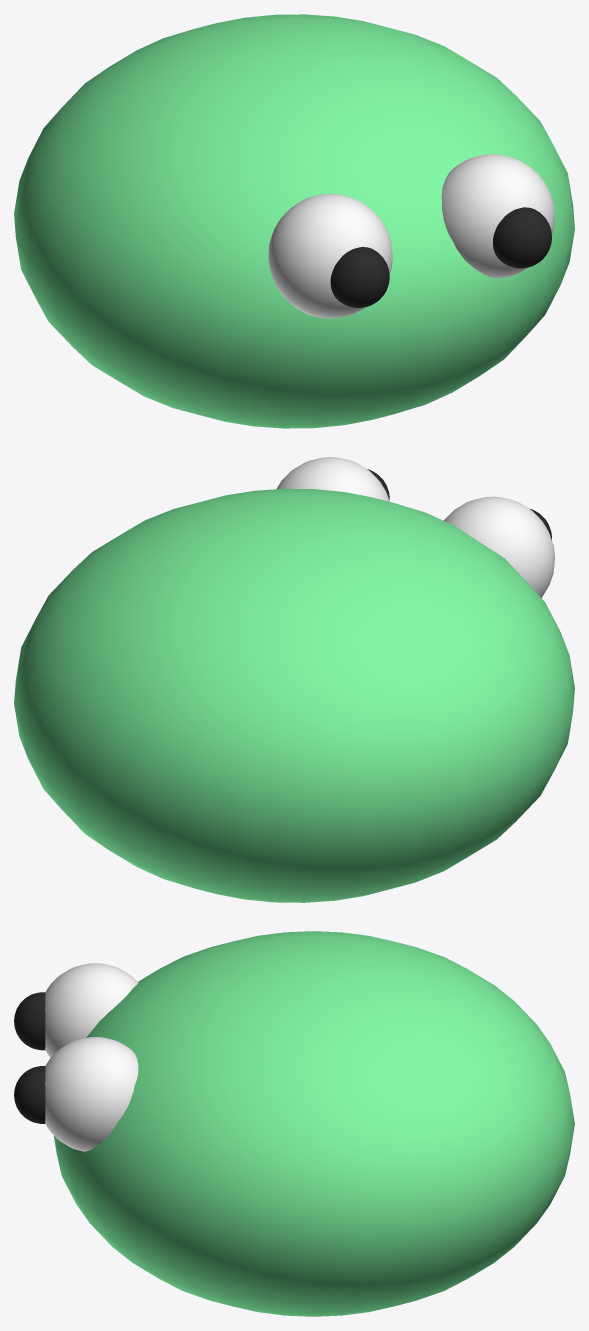
The model's file is slime.fbx.
3 renders of one model, top to bottom at view 1: azimuth 30°, elevation 25°; view 2: azimuth 150°, elevation 25°; view 3: azimuth 270°, elevation 25°, orthographic. The views are drawn at different scales.
Parts seen in each view (by area): view 1: Corps, OeilG, OeilD, PupilleD, PupilleG; view 2: Corps, OeilG, OeilD; view 3: Corps, OeilD, OeilG, PupilleG, PupilleD.
Boxes of the visible parts, x1,y1,x2,y2 form: Corps: [14, 14, 574, 428]; OeilG: [268, 194, 392, 318]; OeilD: [441, 154, 554, 278]; PupilleD: [493, 207, 551, 268]; PupilleG: [330, 247, 389, 307]; Corps: [14, 488, 574, 902]; OeilG: [444, 496, 554, 597]; OeilD: [276, 457, 389, 501]; Corps: [53, 931, 574, 1316]; OeilD: [45, 1037, 138, 1151]; OeilG: [45, 963, 138, 1057]; PupilleG: [14, 992, 45, 1050]; PupilleD: [14, 1066, 45, 1123].
Bounding box in the file's own units: 180 × 120 × 193.
